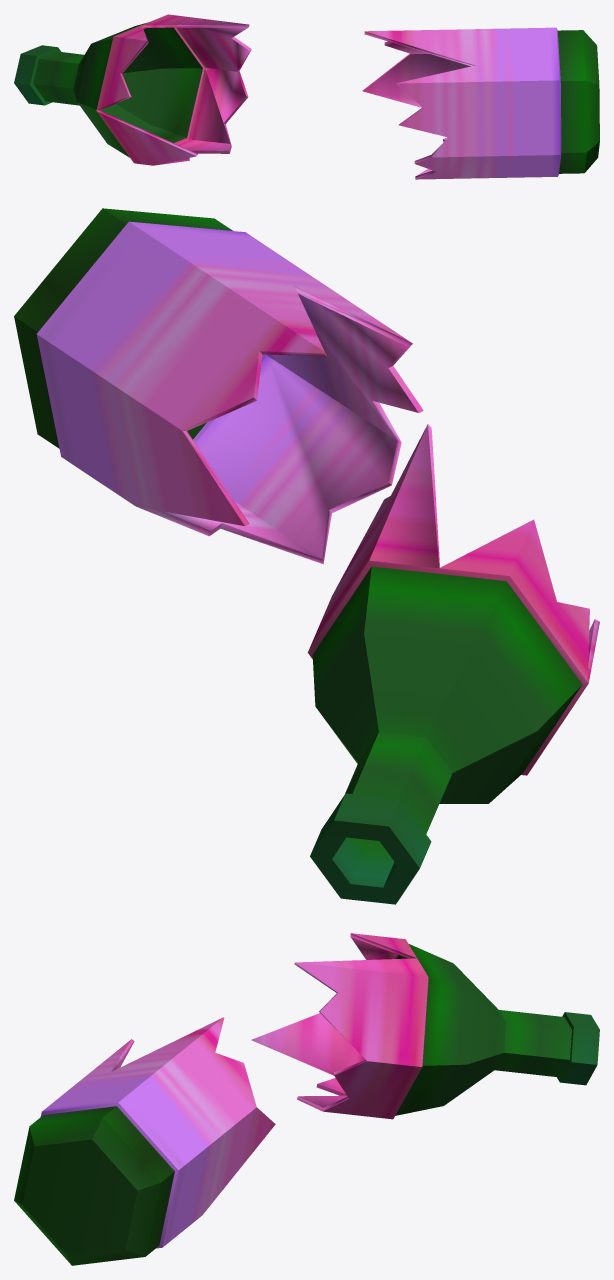
Rendered from brokenBottle.glb.
3 renders of one model, top to bottom at view 1: azimuth 30°, elevation 25°; view 2: azimuth 150°, elevation 25°; view 3: azimuth 270°, elevation 25°, orthographic. The views are drawn at different scales.
Visible parts, largest first — view 1: brokenBottle; view 2: brokenBottle; view 3: brokenBottle.
Boxes of the visible parts, x1,y1,x2,y2 form: brokenBottle: [14, 14, 599, 179]; brokenBottle: [14, 208, 599, 904]; brokenBottle: [14, 933, 599, 1265].
Size of the model in its own units: 1.48 by 0.5035 by 1.59.
1 material, 1 textured.
